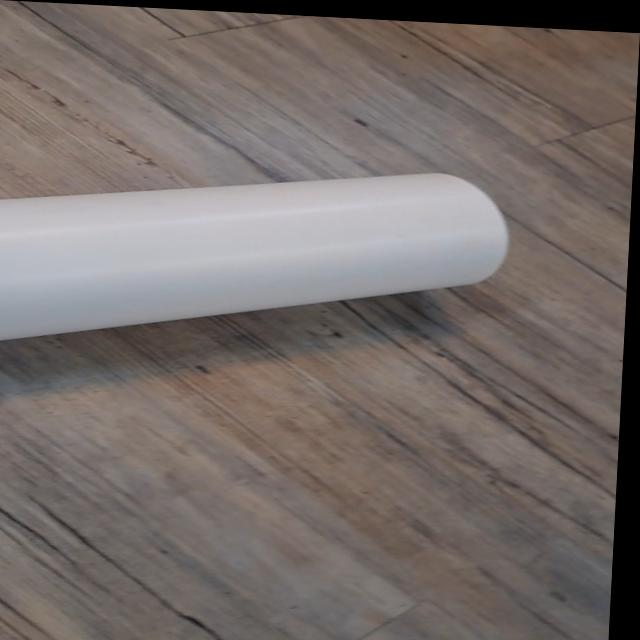CORAL: (0, 132, 520, 387)
